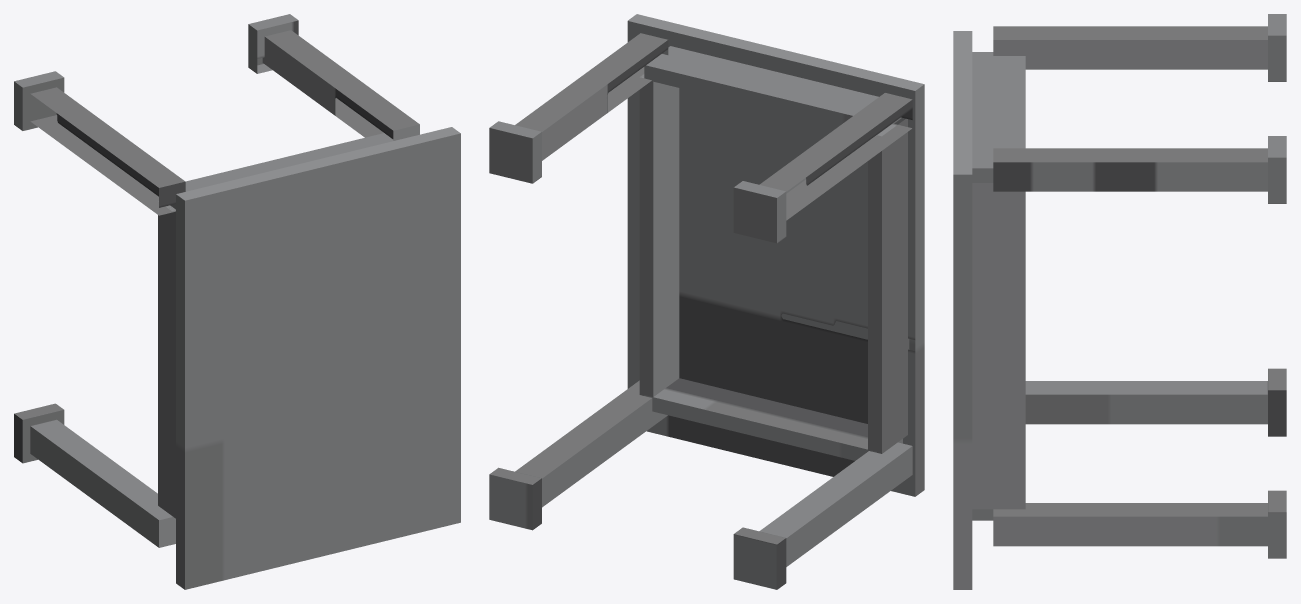
The picture shows the model from 3 angles, left to right: view 1: azimuth 30°, elevation 25°; view 2: azimuth 150°, elevation 25°; view 3: azimuth 270°, elevation 25°; orthographic projection. The views are drawn at different scales.
Size of the model in its own units: 0.7075 by 0.9255 by 0.6583.
